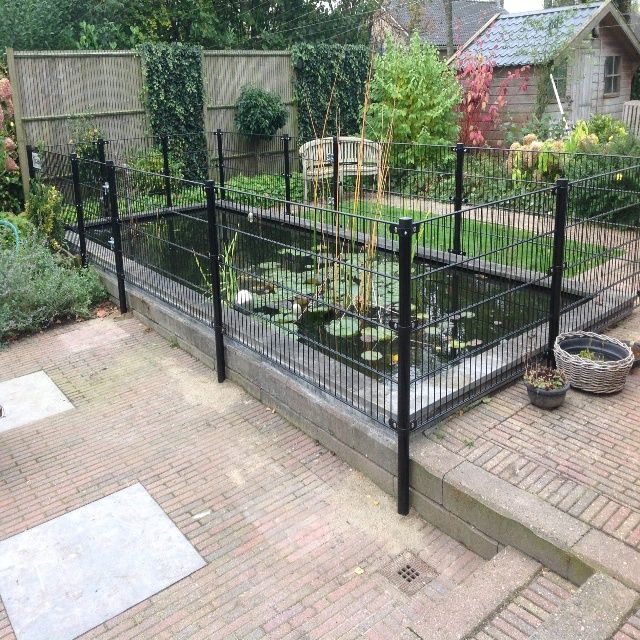obstacle: (156, 0, 640, 638)
